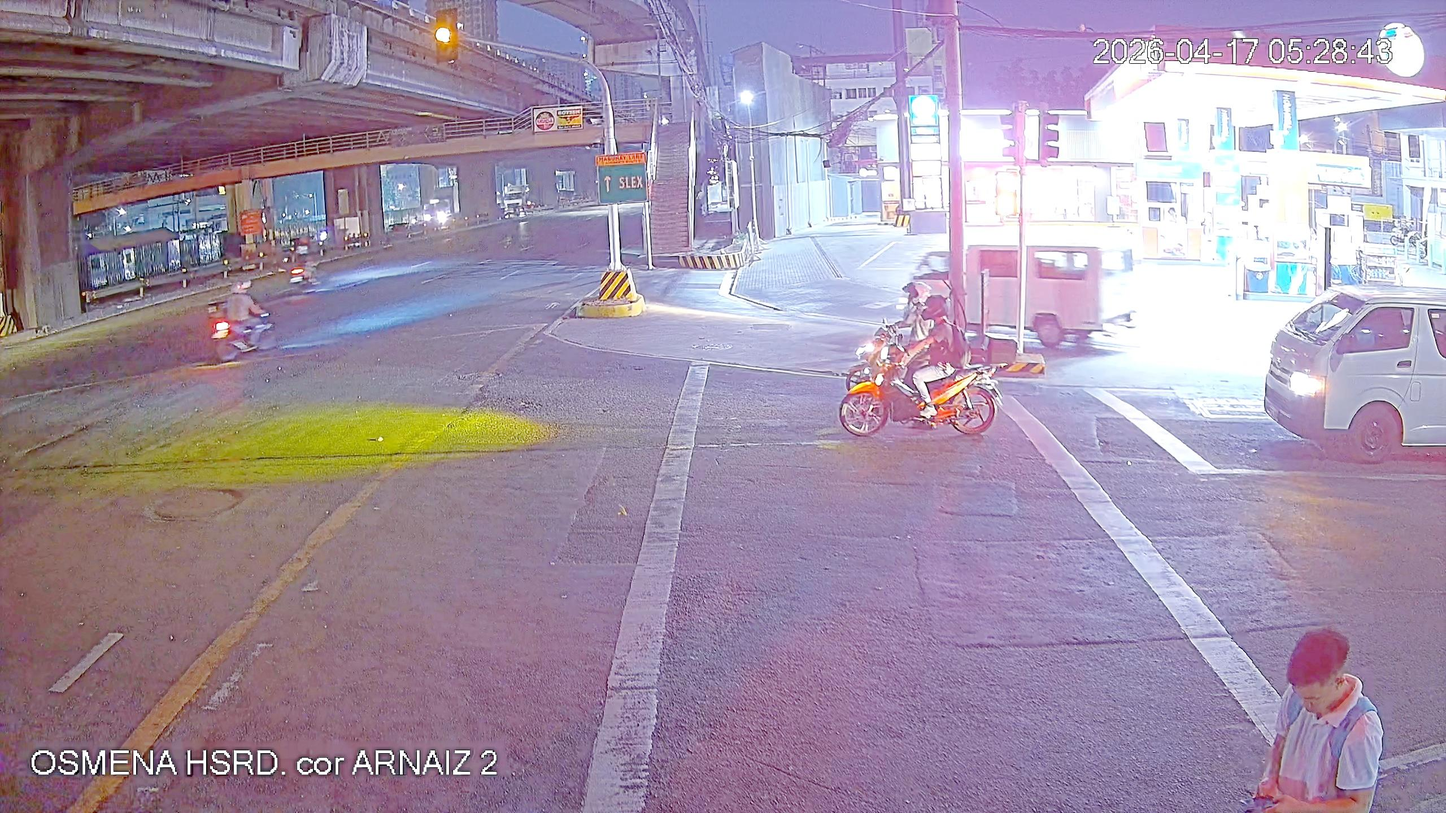Car: (1262, 283, 1446, 461), (918, 236, 1128, 350)
Motor: (847, 345, 1003, 437), (206, 303, 283, 363), (850, 322, 918, 387), (289, 245, 319, 289)
